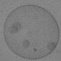small: (11, 24, 19, 33), (48, 42, 56, 50), (20, 39, 29, 46)
